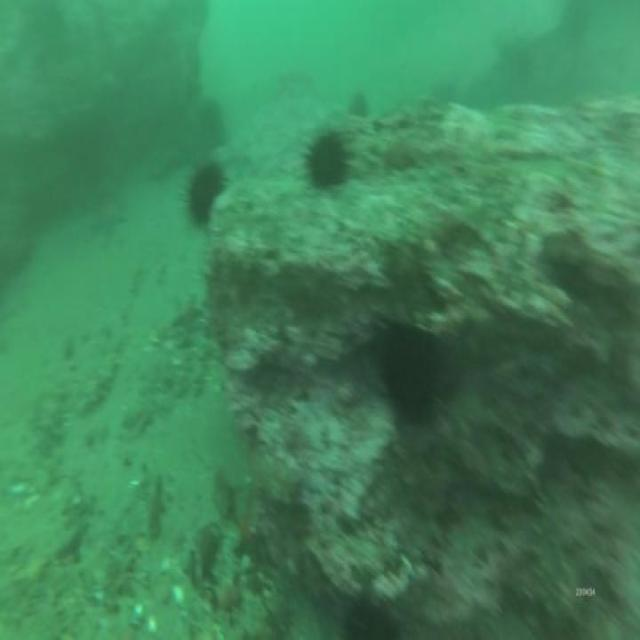echinus: (383, 324, 439, 423), (309, 134, 343, 192), (188, 166, 220, 220)
holothurian: (212, 529, 239, 602)
